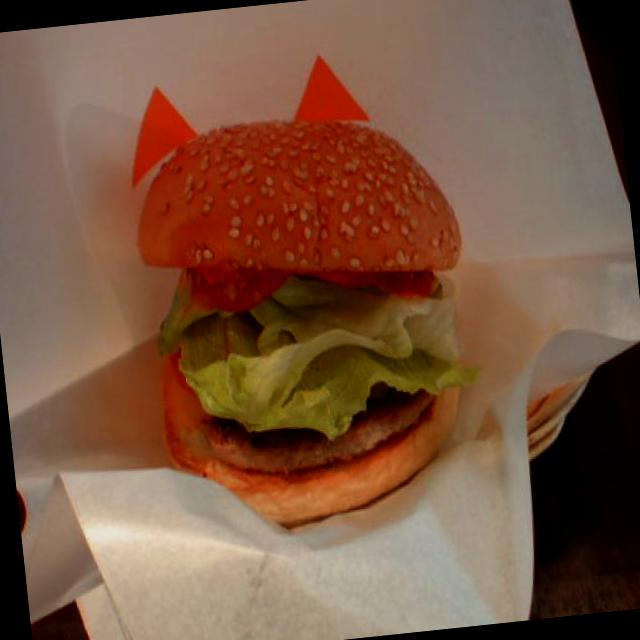Hamburger: (108, 87, 505, 544)
